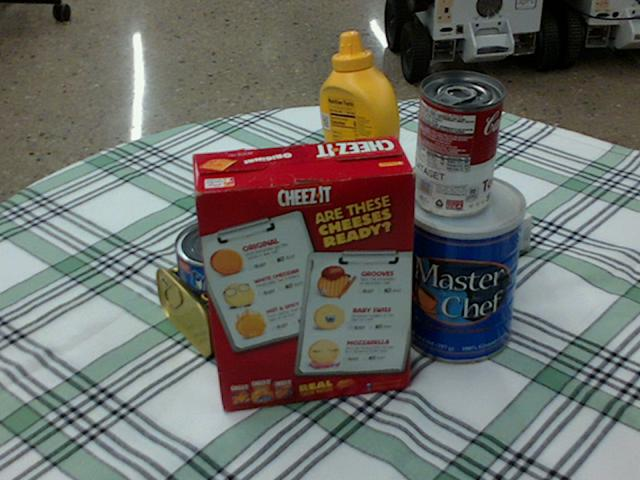cracker_box: (187, 135, 413, 409)
gelatin_box: (303, 176, 400, 248)
master_chef_can: (401, 171, 526, 363)
mug: (266, 212, 366, 330)
mustard_bottle: (319, 32, 409, 226)
potted_meat_can: (157, 246, 285, 356)
sugar_box: (347, 184, 531, 304)
tomato_soup_can: (413, 71, 502, 216)
tuna_fish_can: (174, 216, 269, 296)
